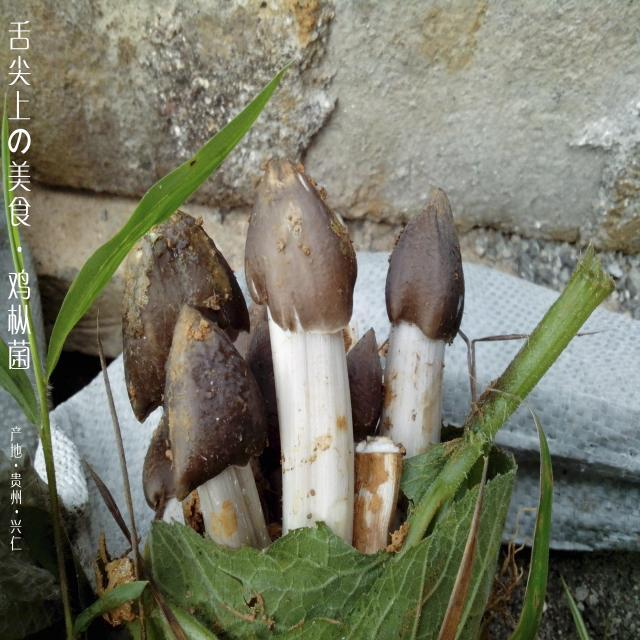Collybia albuminosa: (249, 157, 354, 562), (164, 304, 266, 545), (383, 190, 460, 450)
